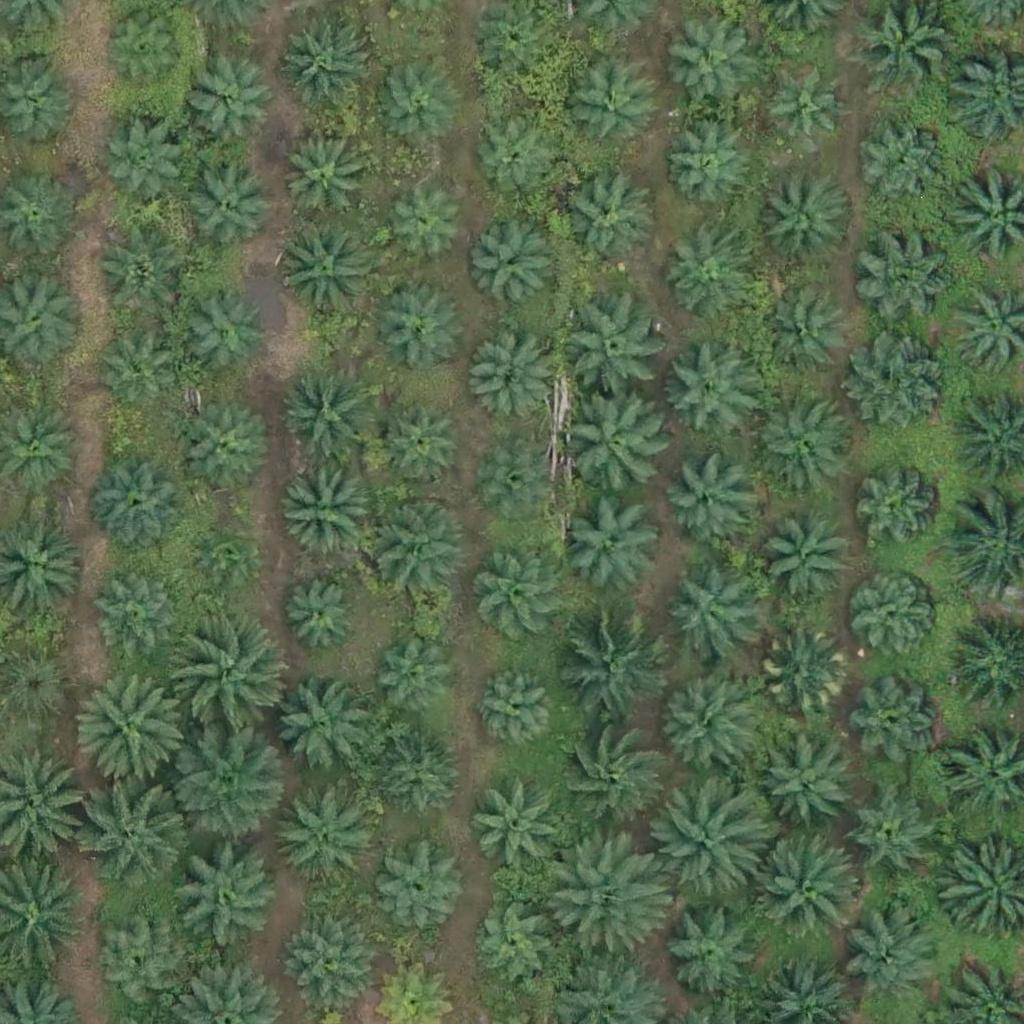Kelapa_Sawit: (557, 390, 670, 504), (169, 729, 282, 842), (170, 839, 283, 952), (80, 775, 193, 888), (76, 671, 189, 784), (656, 790, 768, 904), (557, 614, 669, 728), (176, 619, 288, 733), (753, 836, 865, 949), (549, 834, 661, 947), (553, 721, 665, 834), (758, 734, 858, 835), (657, 895, 757, 996), (569, 495, 669, 596), (468, 779, 568, 880), (363, 495, 463, 596), (272, 783, 372, 884), (90, 455, 190, 556), (276, 223, 376, 324), (279, 363, 379, 464), (554, 173, 654, 274), (569, 298, 669, 399), (659, 10, 759, 111), (753, 393, 853, 494), (853, 226, 953, 327), (851, 330, 951, 431), (846, 905, 946, 1005), (652, 677, 752, 777), (277, 462, 377, 562), (271, 678, 371, 778), (660, 336, 760, 436), (470, 665, 558, 754), (662, 455, 750, 543), (663, 571, 751, 659), (478, 555, 566, 643), (372, 628, 460, 716), (93, 576, 181, 664), (104, 119, 192, 207), (97, 233, 185, 321), (182, 62, 270, 150), (186, 163, 274, 251), (178, 292, 266, 380), (280, 22, 368, 110), (476, 1, 564, 89), (563, 61, 651, 149), (661, 126, 749, 214), (763, 170, 851, 258), (858, 120, 946, 208), (757, 63, 844, 152), (853, 469, 940, 557), (850, 578, 937, 666), (853, 677, 940, 765), (850, 794, 937, 882), (760, 630, 847, 718), (759, 515, 846, 603), (375, 733, 462, 821), (470, 903, 557, 991), (285, 913, 372, 1001), (372, 844, 459, 932), (97, 922, 184, 1010), (95, 328, 182, 416), (98, 10, 185, 98), (185, 408, 272, 496), (283, 136, 370, 224), (378, 400, 465, 488), (378, 282, 465, 370), (385, 178, 472, 266), (373, 55, 460, 143), (472, 118, 559, 206), (471, 227, 558, 315), (468, 335, 555, 423), (660, 233, 747, 321), (758, 291, 845, 379), (282, 578, 357, 654), (482, 445, 557, 521), (193, 522, 255, 585)
